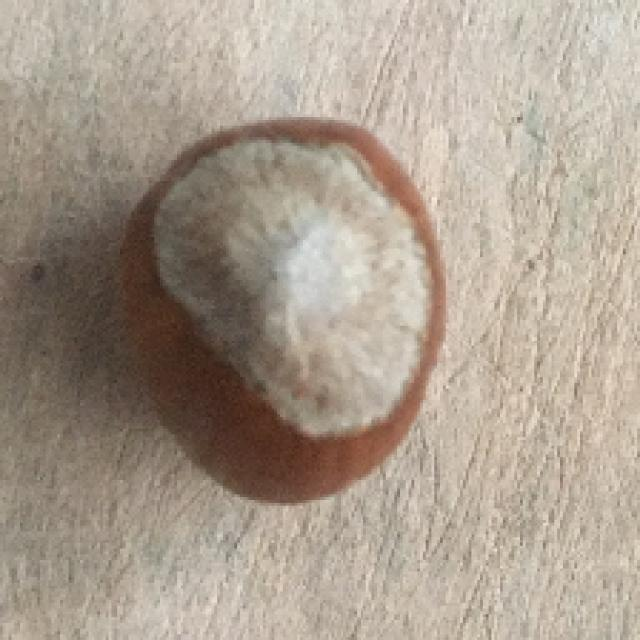QualityHazelnut: (121, 120, 453, 511)
